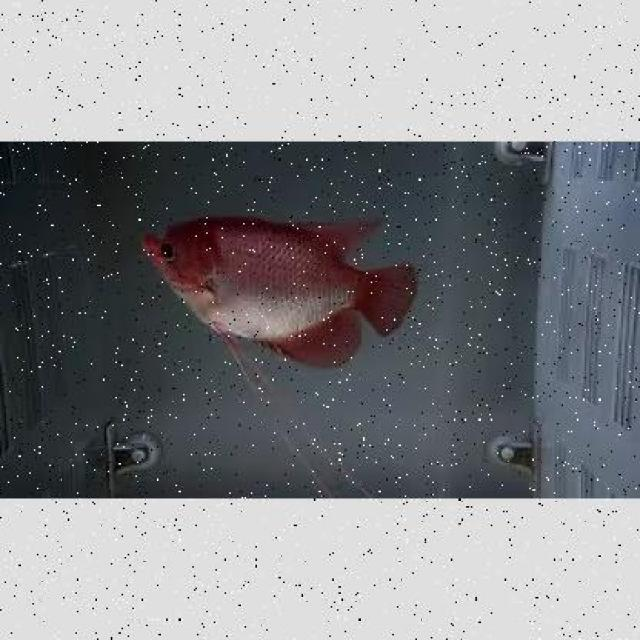gurame: (136, 214, 418, 370)
